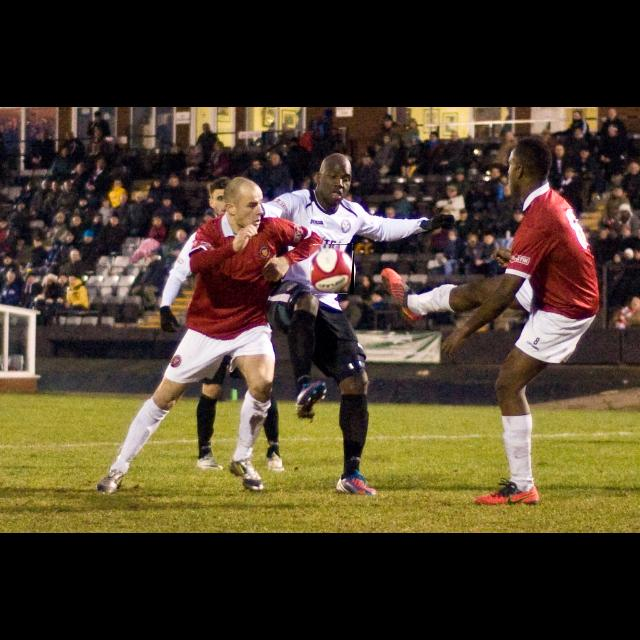Football: (310, 244, 354, 294)
